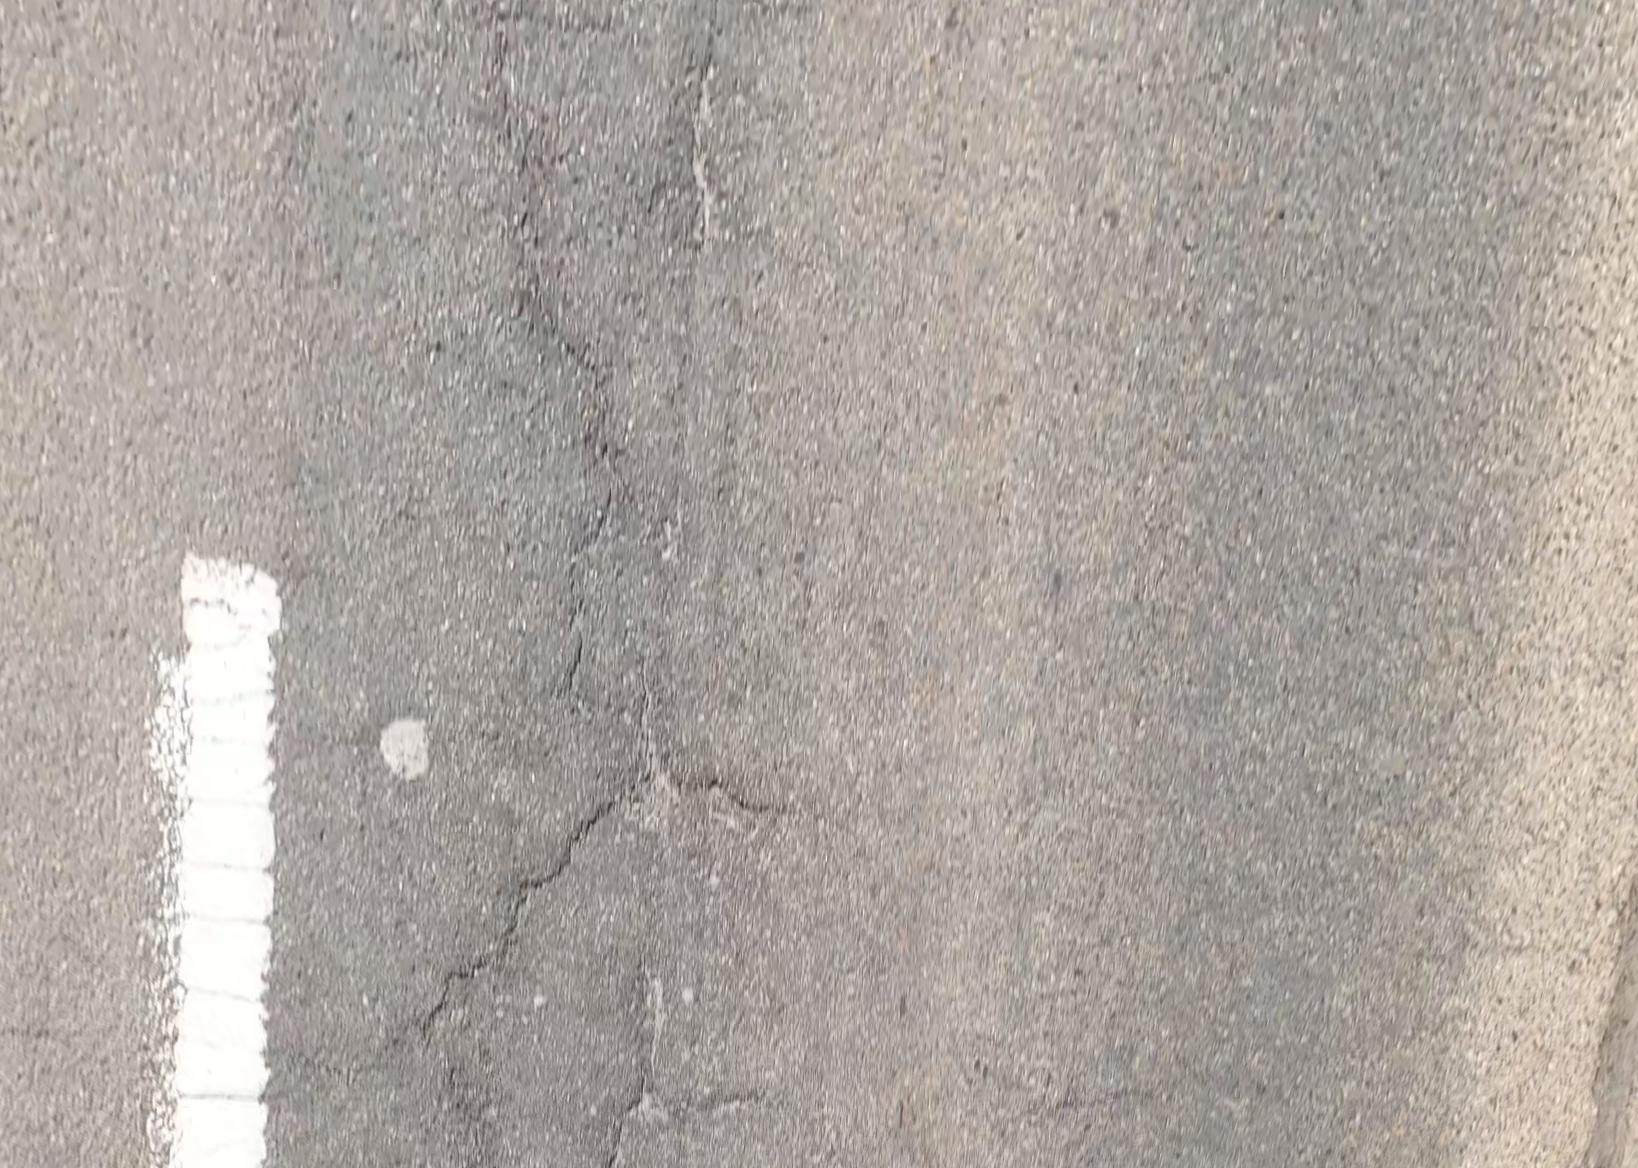pothole: (1587, 886, 1638, 1168)
pothole_patch_good: (372, 715, 432, 780)
